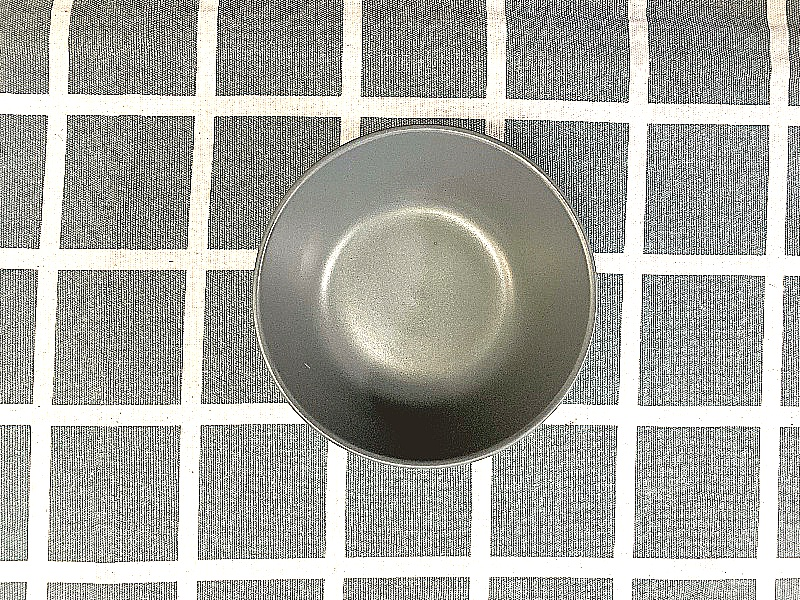bowl_big: (243, 111, 620, 474)
